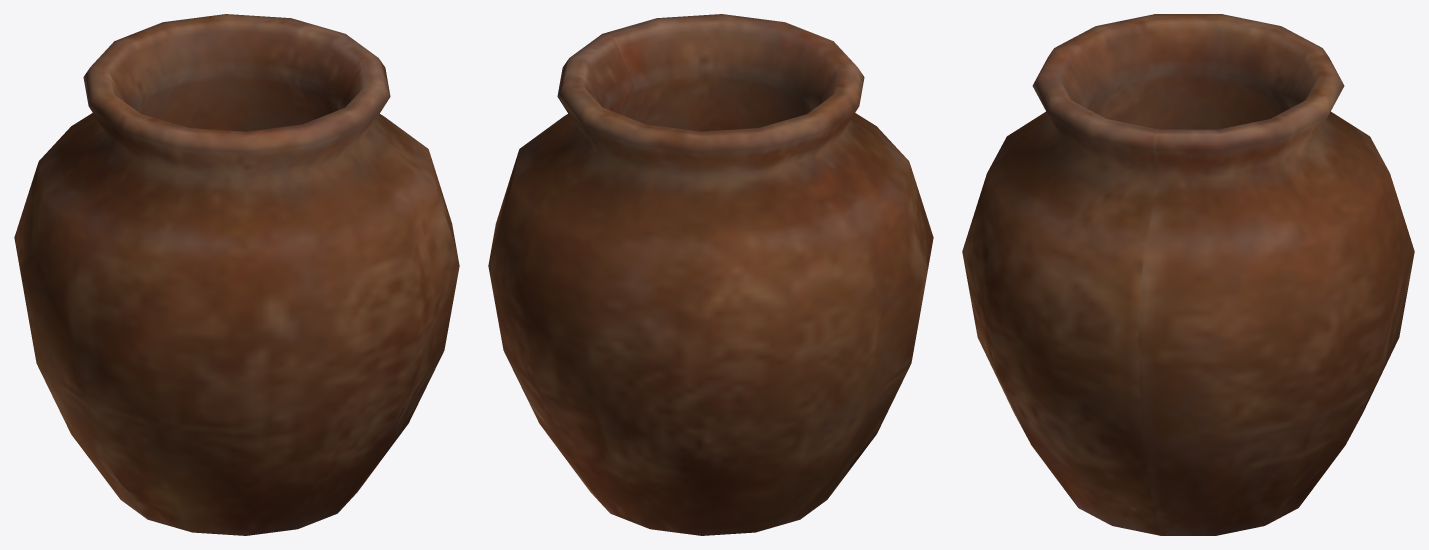
The model's file is SM_Pot_01.gltf.
The picture shows the model from 3 angles, left to right: view 1: azimuth 30°, elevation 25°; view 2: azimuth 150°, elevation 25°; view 3: azimuth 270°, elevation 25°; orthographic projection.
Parts seen in each view (by area): view 1: SM_Pot_01_LOD0; view 2: SM_Pot_01_LOD0; view 3: SM_Pot_01_LOD0.
Boxes of the visible parts, box(x1,y1,x2,y2) form: SM_Pot_01_LOD0: box(14, 14, 459, 535); SM_Pot_01_LOD0: box(488, 14, 933, 535); SM_Pot_01_LOD0: box(962, 14, 1414, 535).
Size of what is drawn, in the model's own units: 0.5834 by 0.5984 by 0.5984.
Materials: 1 (1 with a texture image).
